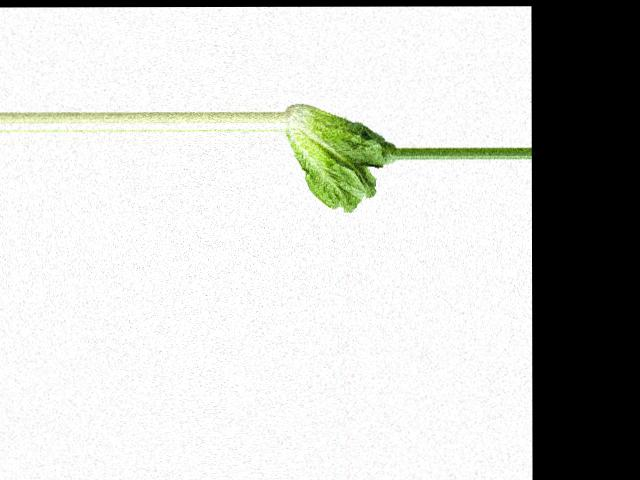lettuce: (286, 102, 393, 213)
